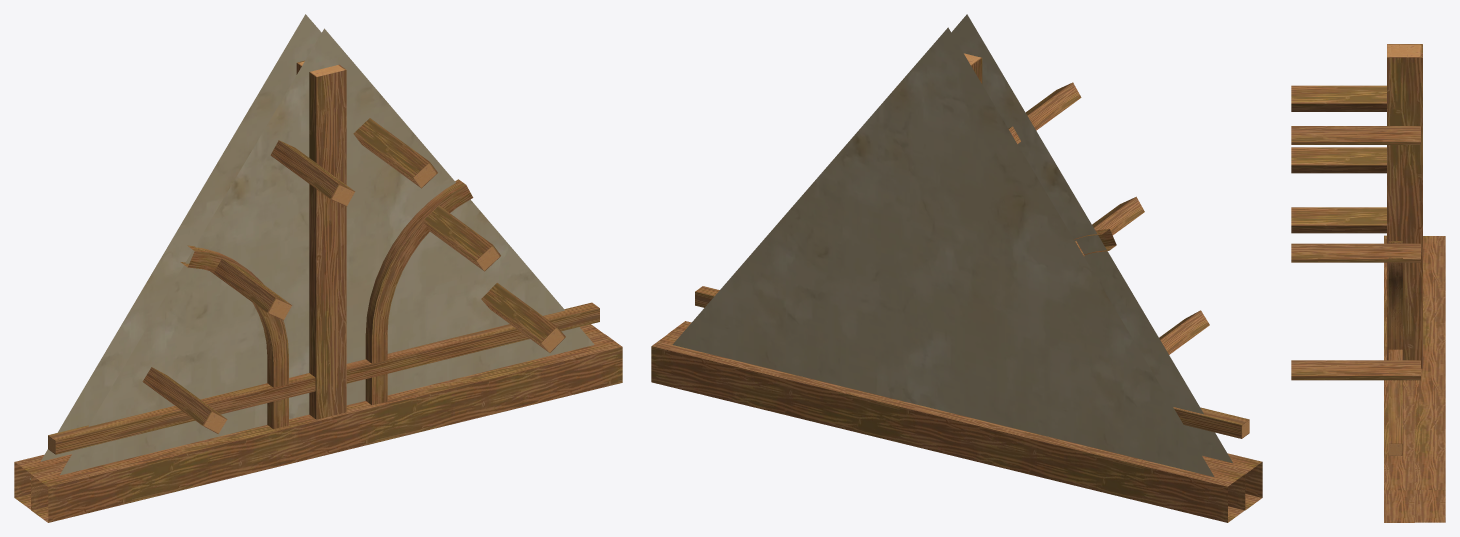
File: roof_front_brick4.glb
The picture shows the model from 3 angles, left to right: view 1: azimuth 30°, elevation 25°; view 2: azimuth 150°, elevation 25°; view 3: azimuth 270°, elevation 25°; orthographic projection. The views are drawn at different scales.
Bounding box in the file's own units: 4.4 × 3.07 × 1.13.
Materials: 2 (2 with a texture image).
